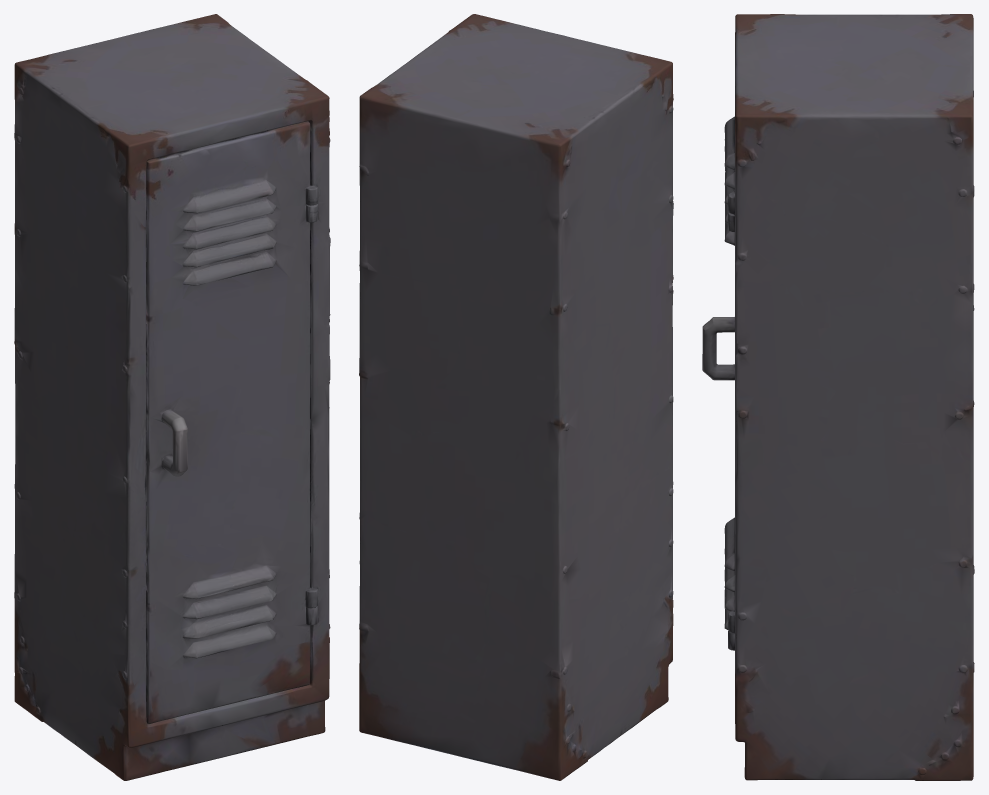
The model's file is locker_metal_sportivnyy_idle.glb.
3 views of the same model, side by side, from view 1: azimuth 30°, elevation 25°; view 2: azimuth 150°, elevation 25°; view 3: azimuth 270°, elevation 25° (orthographic). The views are drawn at different scales.
Visible parts, largest first — view 1: tripo_node_e439e764-3a69-452d-9019-3cd732e2288a; view 2: tripo_node_e439e764-3a69-452d-9019-3cd732e2288a; view 3: tripo_node_e439e764-3a69-452d-9019-3cd732e2288a.
Part boxes in pixels (x1,y1,x2,y2): tripo_node_e439e764-3a69-452d-9019-3cd732e2288a: (14, 14, 330, 780); tripo_node_e439e764-3a69-452d-9019-3cd732e2288a: (359, 14, 673, 780); tripo_node_e439e764-3a69-452d-9019-3cd732e2288a: (702, 14, 974, 780).
Size of the model in its own units: 0.6034 by 1.8 by 0.6668.
1 material, 1 textured.
